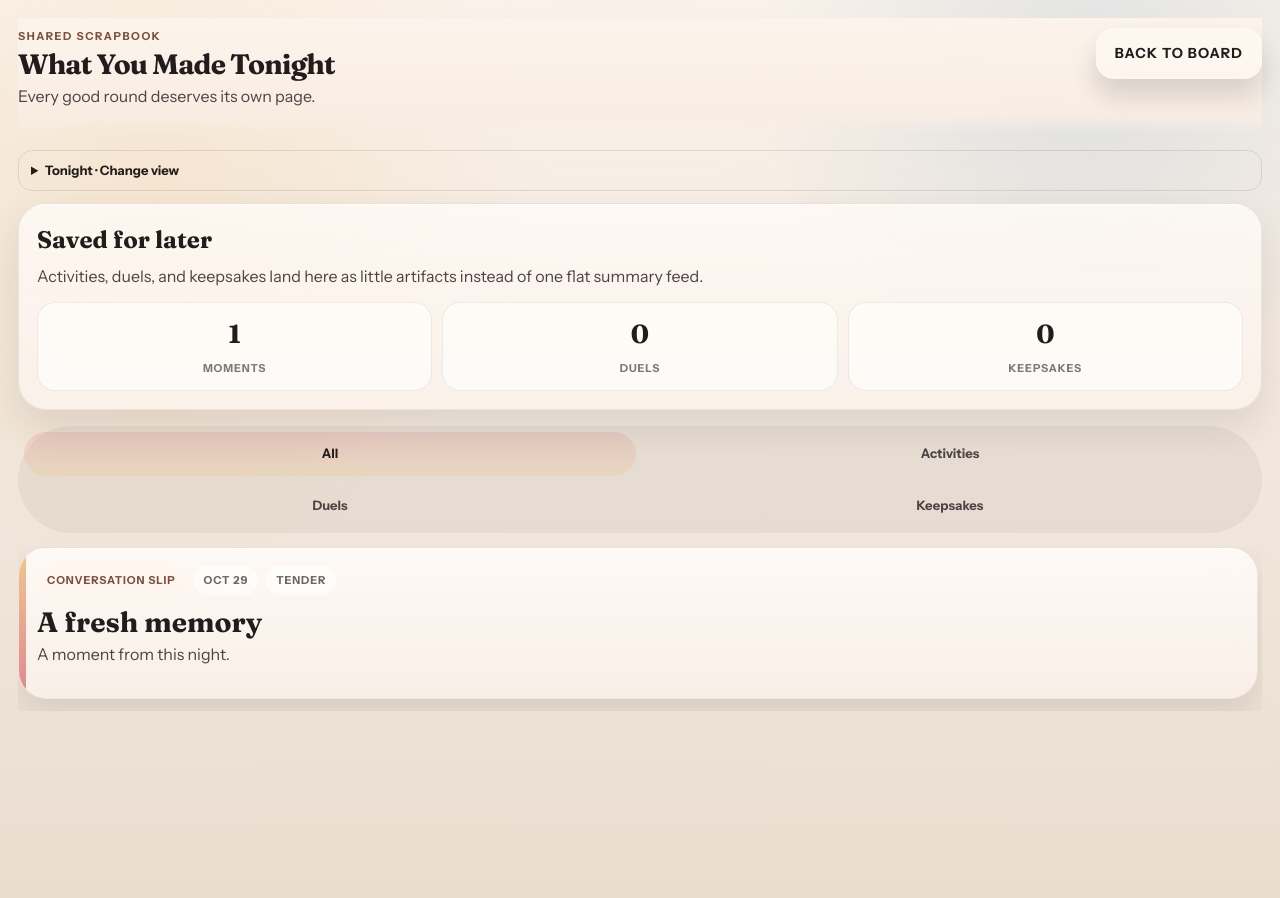
it: scrapbook night scope › starts with this night, with earlier memories available in All nights
The image size is (1280, 898).
Expected: the text "A fresh memory" is shown, [37, 605, 262, 639]
Expected: the text "Yesterday is complete." is not shown
Click the heading "Tonight · Change view": (112, 170) [45, 162, 179, 178]
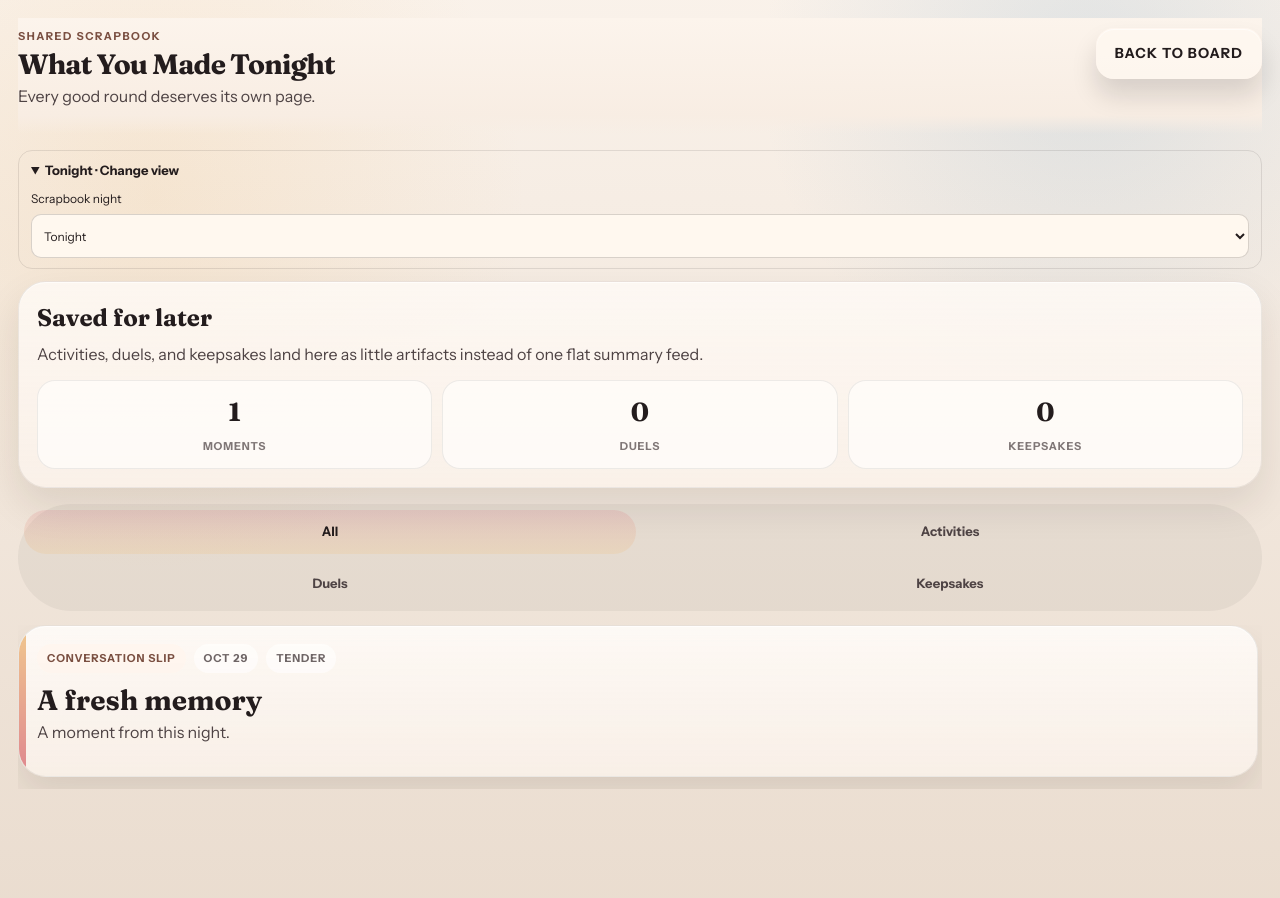
Select "All nights" in the dropdown labelled "Scrapbook night": (640, 236) [31, 214, 1249, 258]
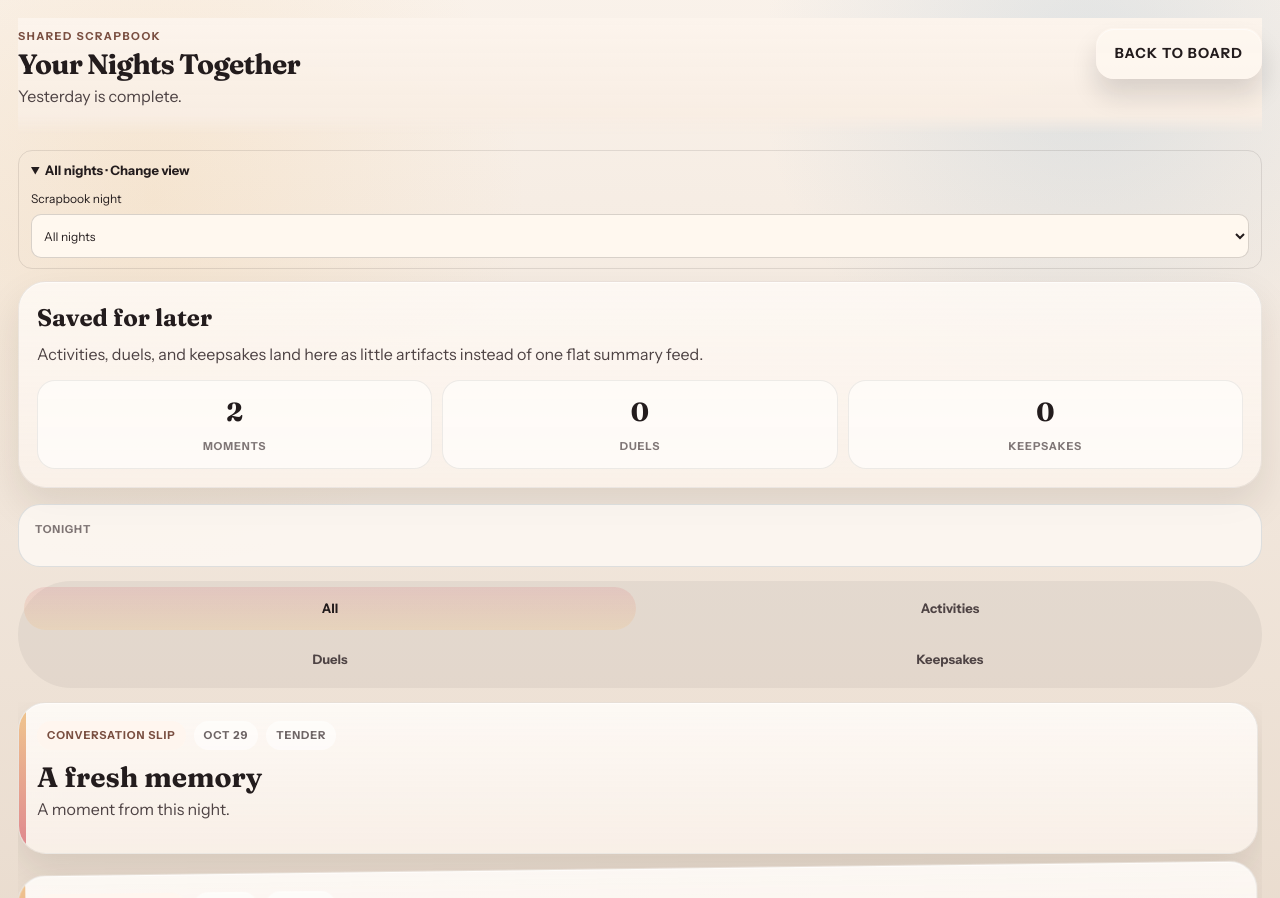
Now the heading "Your Nights Together" is shown, box [18, 50, 300, 78]
